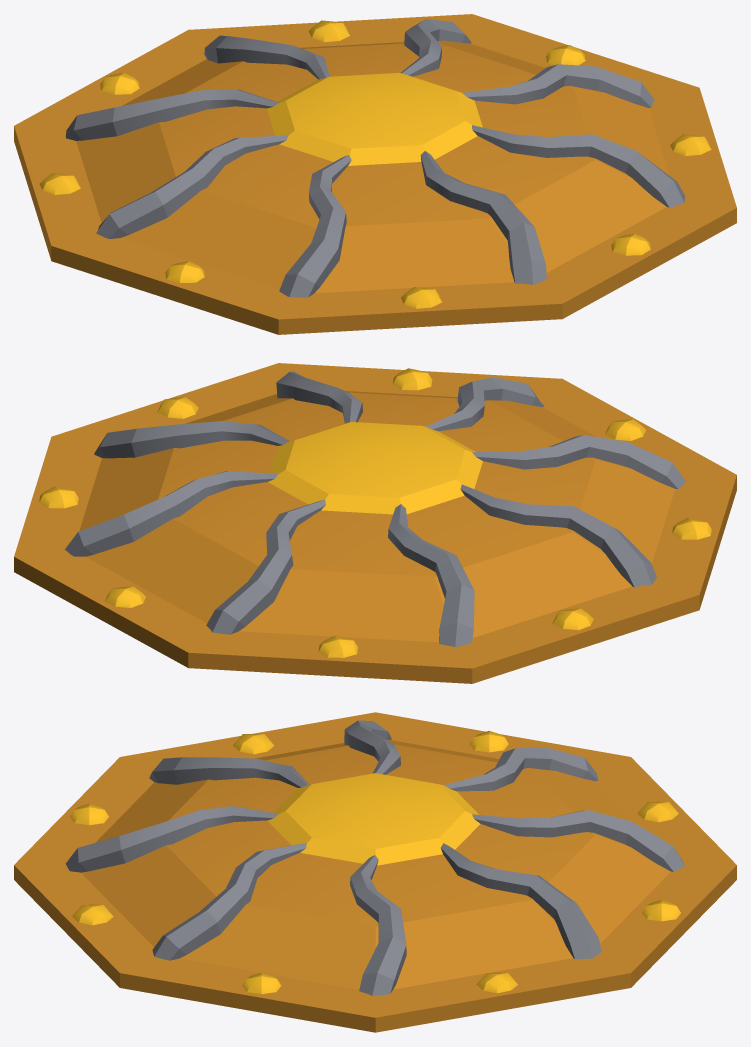
File: Shield.fbx
3 renders of one model, top to bottom at view 1: azimuth 30°, elevation 25°; view 2: azimuth 150°, elevation 25°; view 3: azimuth 270°, elevation 25°, orthographic. The views are drawn at different scales.
Parts seen in each view (by area): view 1: Shield; view 2: Shield; view 3: Shield.
Boxes of the visible parts, bbox=[...] form: Shield: bbox=[14, 14, 736, 334]; Shield: bbox=[14, 363, 736, 683]; Shield: bbox=[14, 712, 736, 1032].
Bounding box in the file's own units: 72.75 × 12.51 × 72.75.
1 material, 1 textured.
